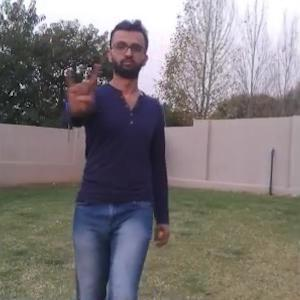takeoff-hand: (56, 58, 107, 115)
